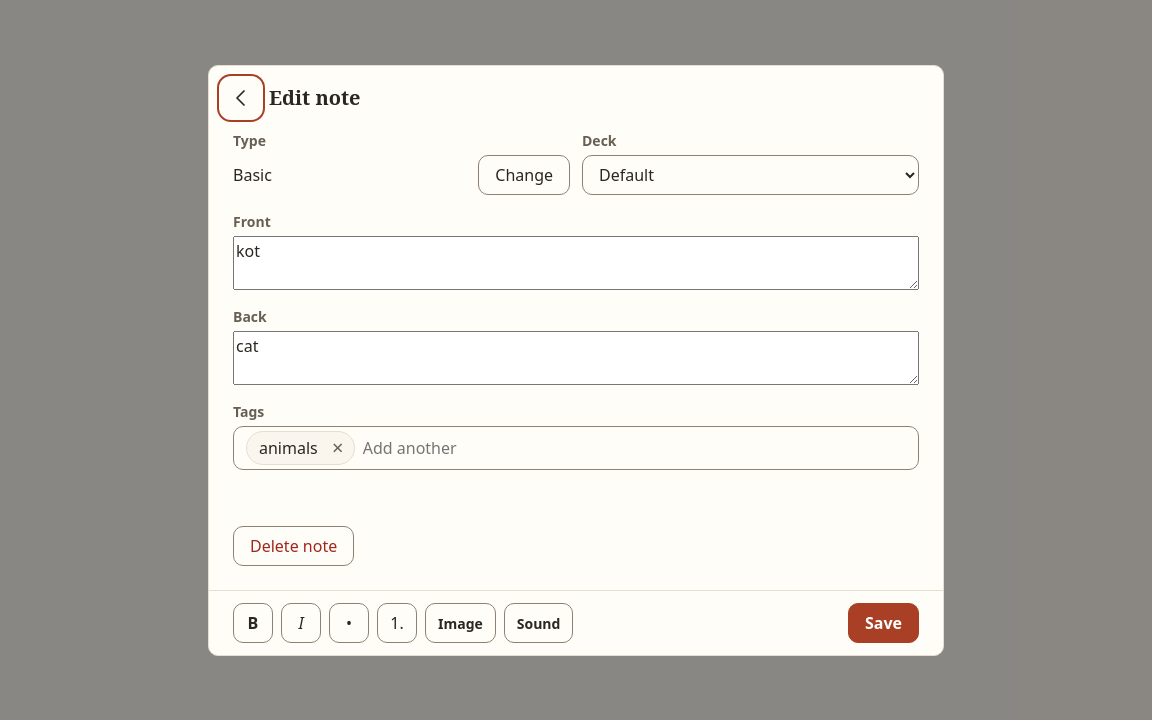
the rest › the duplicate warning leaves out the note itself
Expected: the text "already exists" is not shown
Replace the text in the text box labelled "Front" with "pies" at (576, 262), box [233,236,919,290]
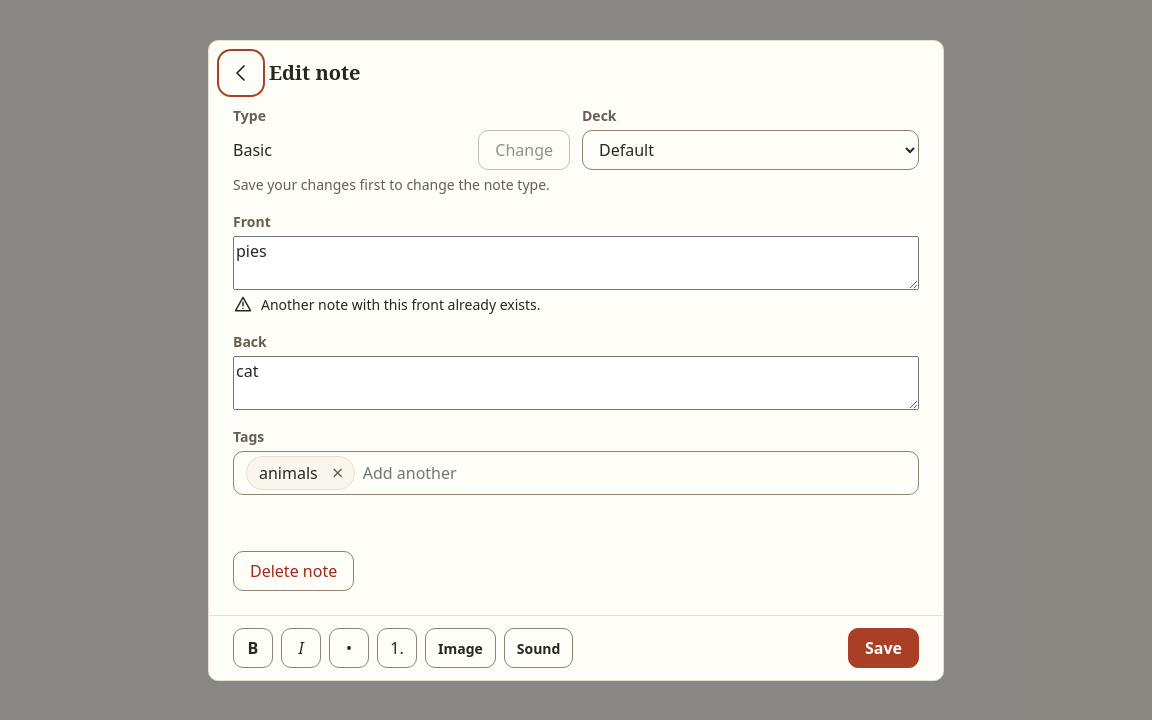
Expected: the text "Another note with this front already exists." is shown, [261,294,540,314]
